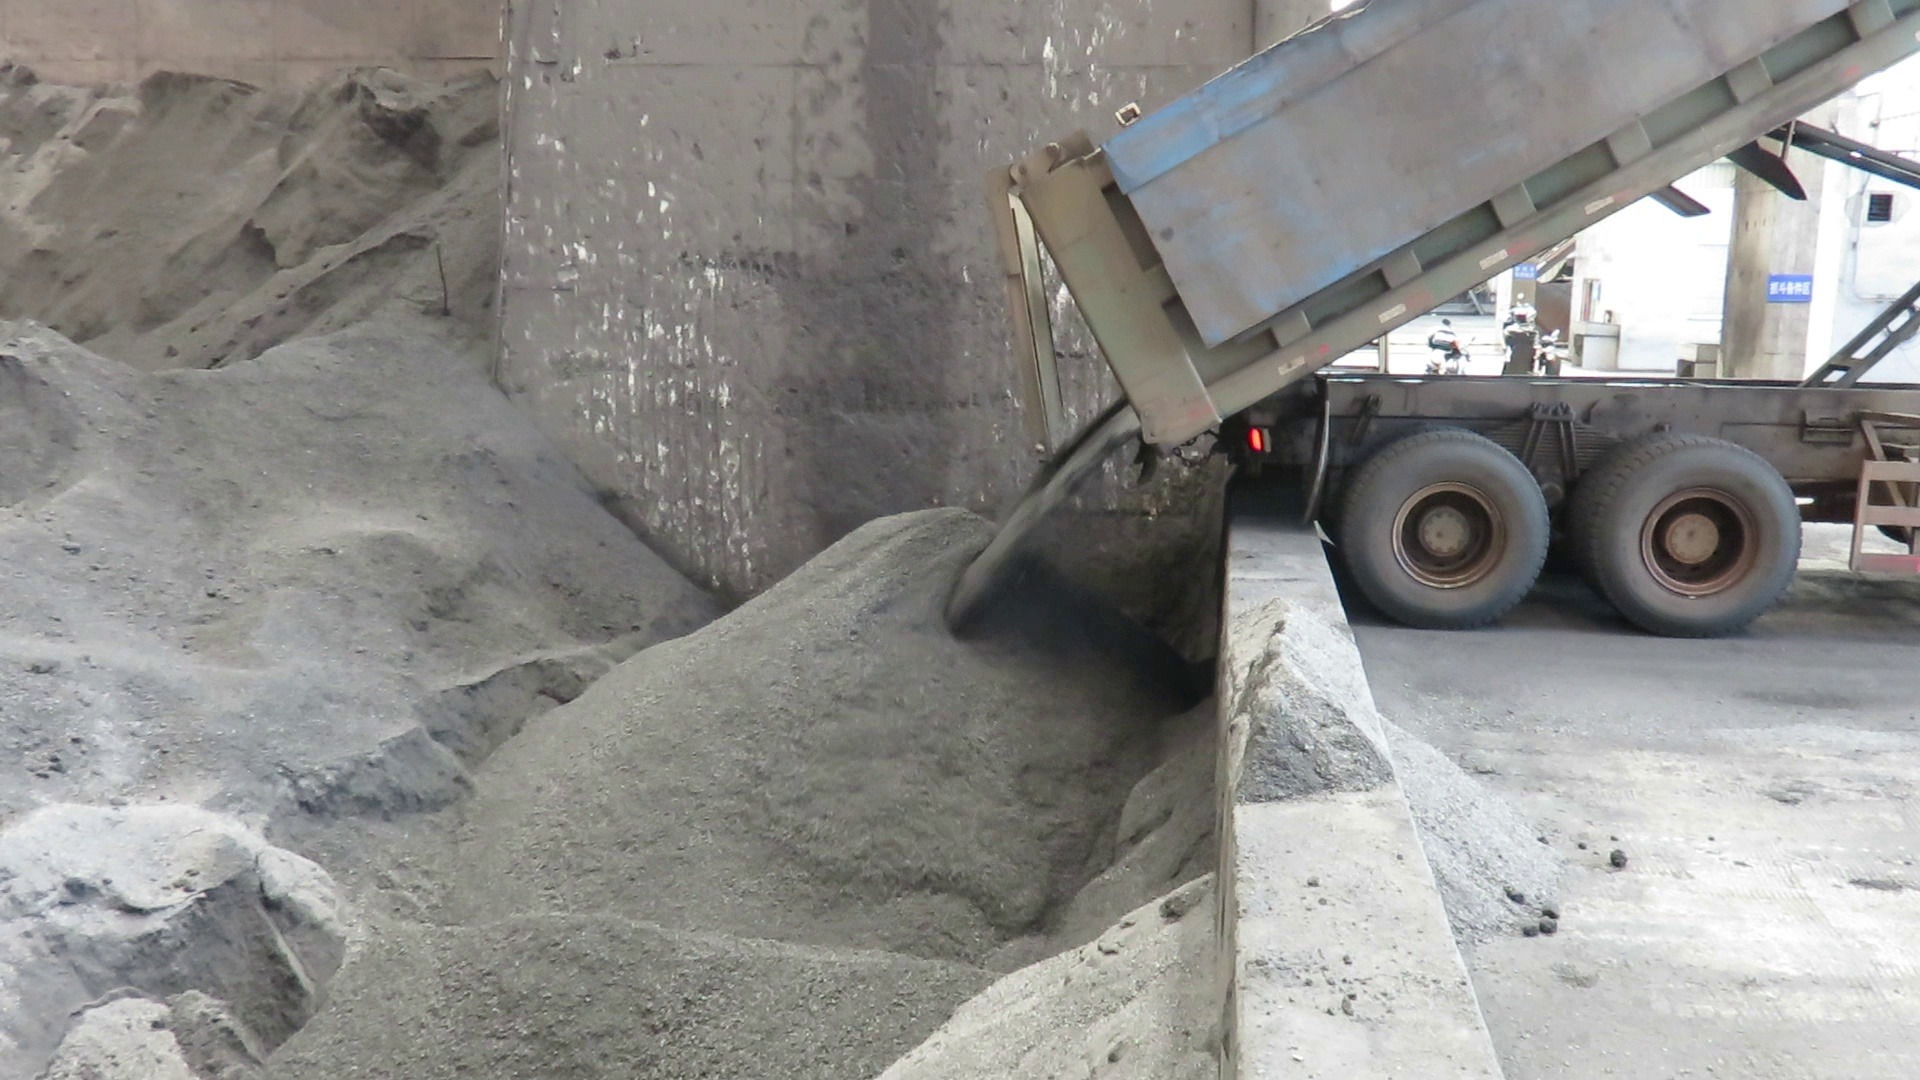truck: (976, 0, 1920, 640)
